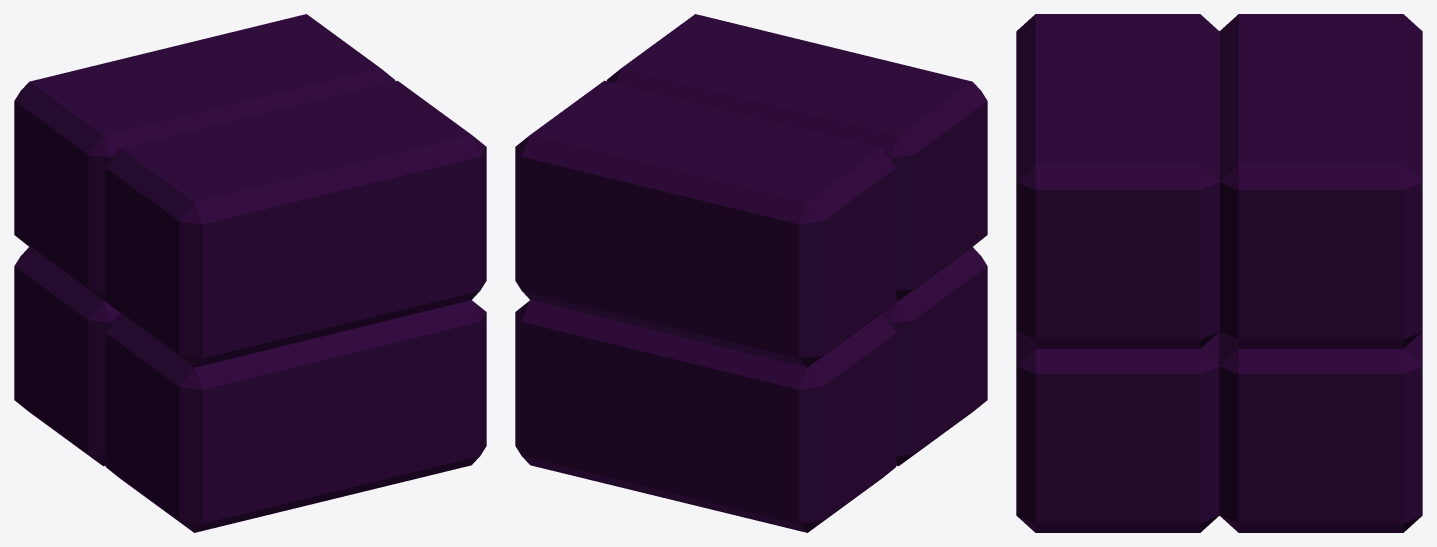
Rendered from Wall_Frame.fbx.
The picture shows the model from 3 angles, left to right: view 1: azimuth 30°, elevation 25°; view 2: azimuth 150°, elevation 25°; view 3: azimuth 270°, elevation 25°; orthographic projection. The views are drawn at different scales.
Parts seen in each view (by area): view 1: Wall Frame; view 2: Wall Frame; view 3: Wall Frame.
Boxes of the visible parts, <box> form: Wall Frame: <box>14,14,486,532</box>; Wall Frame: <box>515,14,987,532</box>; Wall Frame: <box>1016,14,1422,532</box>.
Size of the model in its own units: 206 by 212 by 212.
